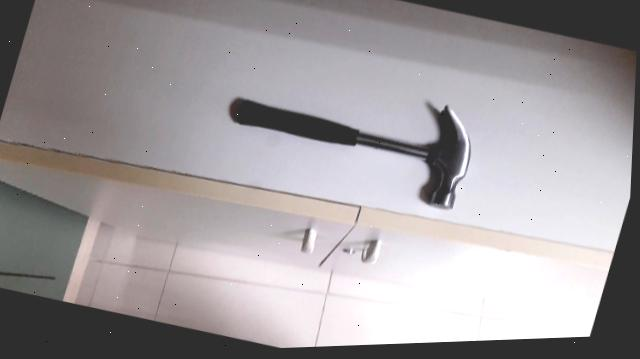hammer: (200, 48, 491, 233)
